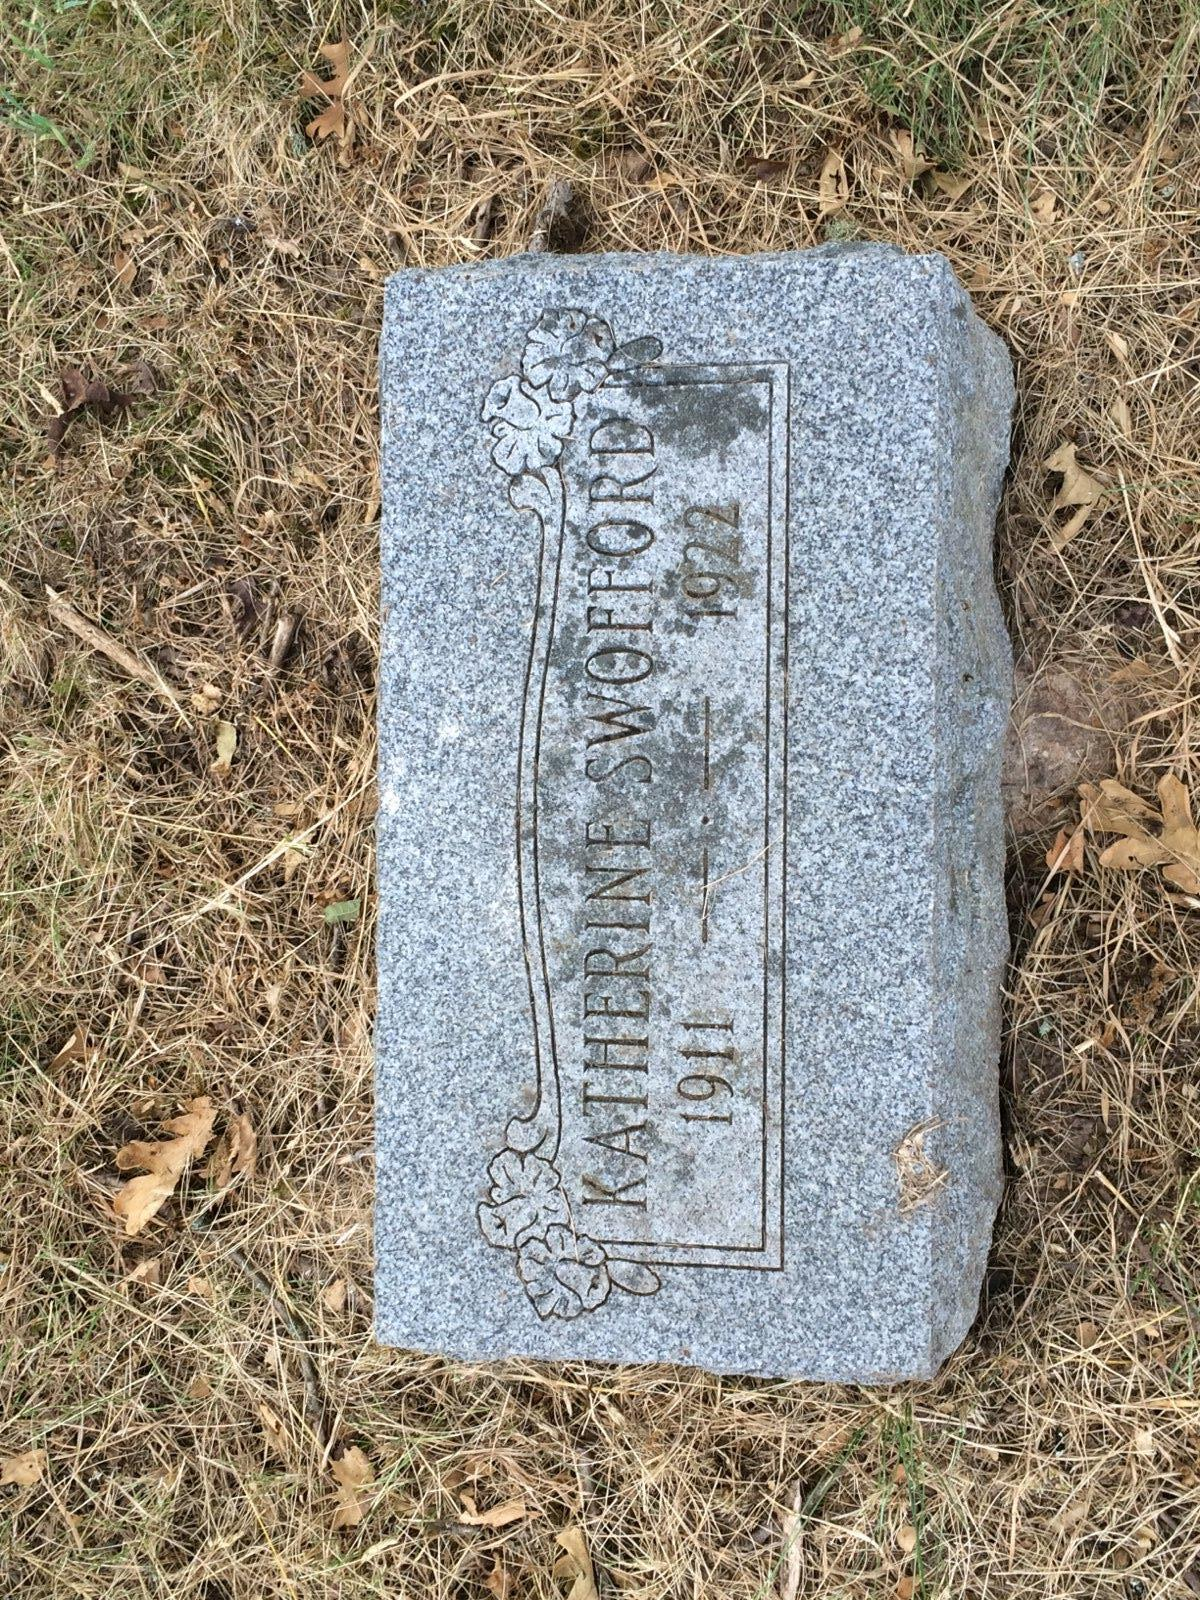flat: (296, 169, 1041, 1405)
